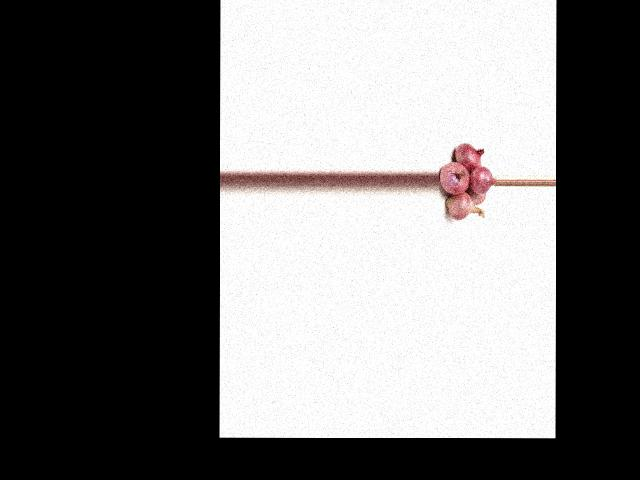onion: (438, 161, 469, 201)
